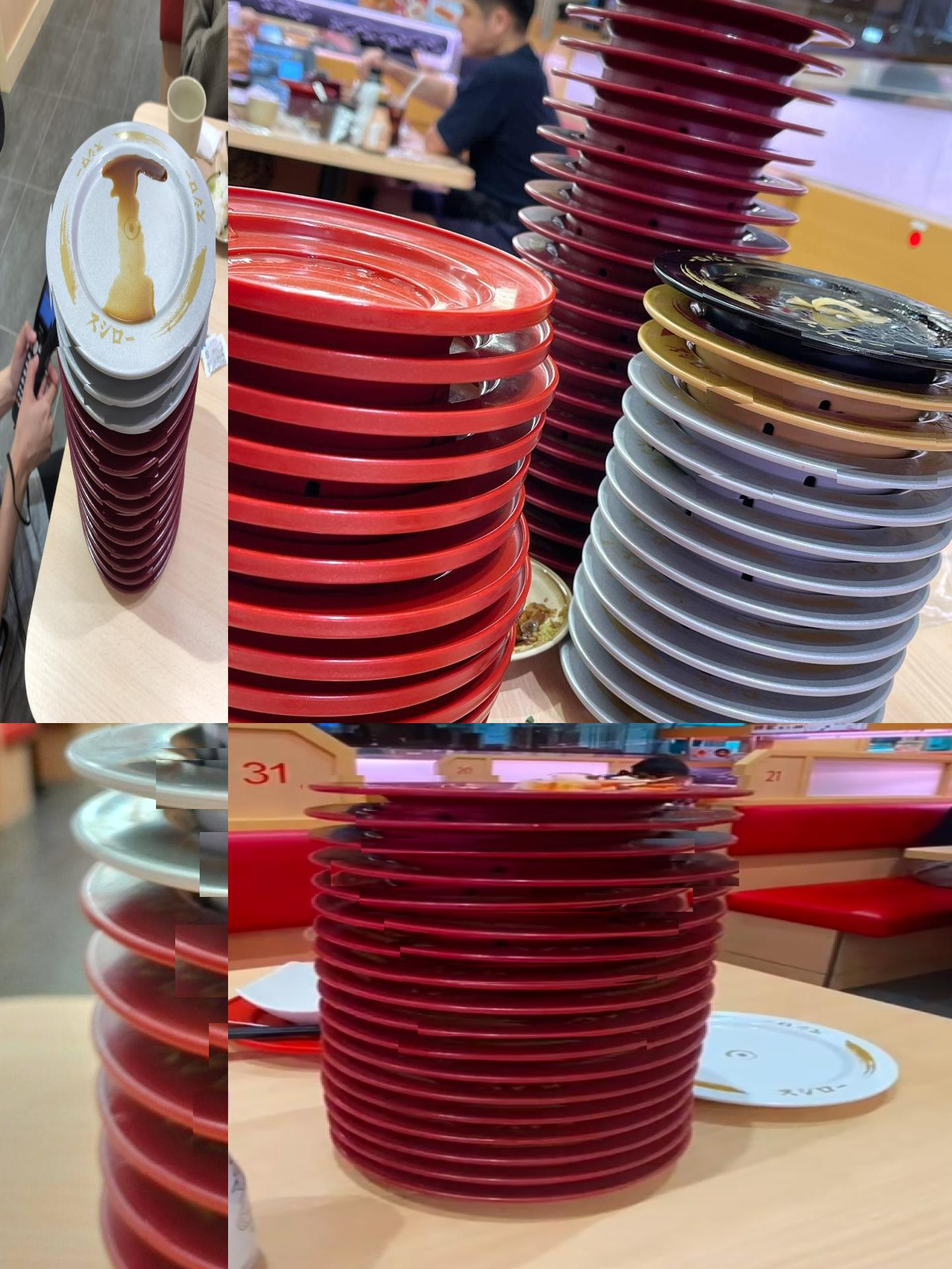Janback: (701, 277, 910, 325), (793, 329, 903, 358), (923, 311, 952, 362)
Jangold: (776, 381, 908, 414), (862, 424, 940, 450), (671, 337, 753, 361), (702, 385, 758, 406)
Janred: (567, 171, 694, 217), (619, 15, 758, 53), (643, 59, 791, 94), (634, 125, 754, 168), (575, 81, 684, 120), (558, 226, 660, 267), (560, 275, 636, 312), (560, 335, 629, 369), (89, 429, 169, 452), (564, 398, 619, 426), (545, 452, 601, 479), (95, 457, 162, 479), (540, 493, 587, 523), (566, 364, 616, 391), (573, 313, 634, 335), (554, 428, 601, 455), (542, 527, 578, 553), (98, 500, 159, 515), (99, 533, 157, 548), (100, 483, 154, 498), (110, 579, 157, 591), (101, 519, 162, 528), (107, 551, 155, 560), (110, 566, 156, 575)
Janwhite: (50, 158, 217, 349), (596, 628, 731, 706), (636, 593, 745, 635), (632, 387, 667, 516), (674, 503, 791, 540), (809, 504, 952, 531), (661, 529, 752, 571), (805, 573, 944, 597), (693, 440, 795, 472), (781, 645, 902, 671), (655, 570, 756, 600), (809, 543, 952, 563), (829, 467, 947, 490), (802, 613, 943, 632), (777, 675, 897, 697), (78, 383, 178, 408), (691, 474, 779, 501), (766, 705, 890, 723), (604, 712, 675, 723), (100, 414, 160, 426)
